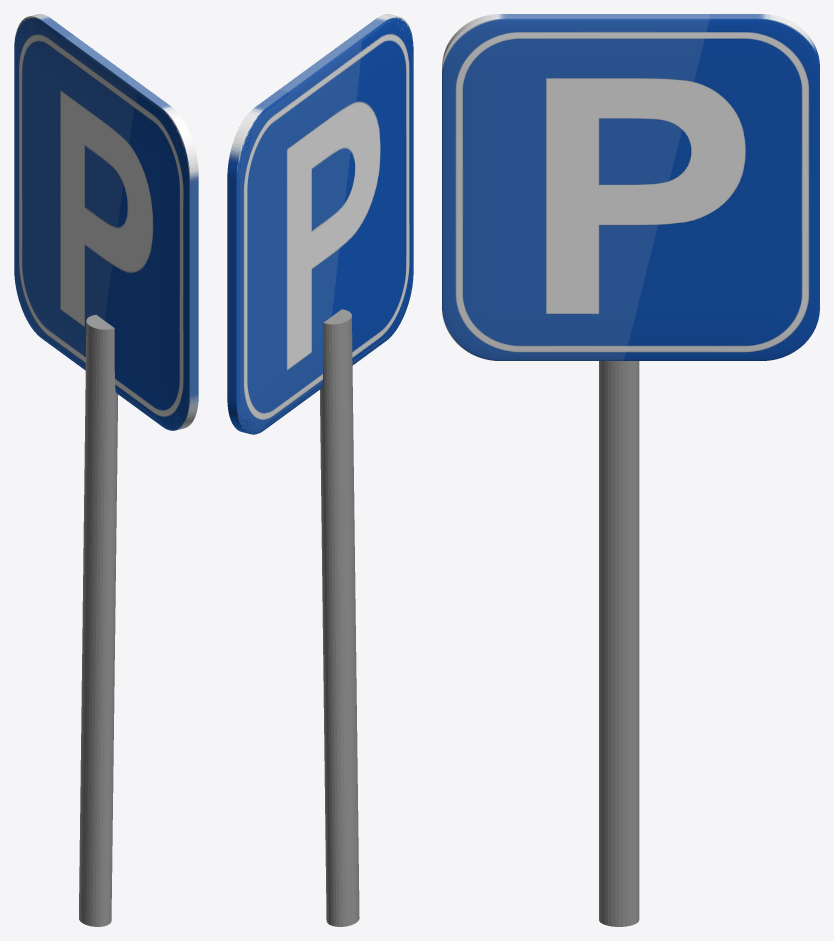
File: Parking_02.glb
3 views of the same model, side by side, from view 1: azimuth 30°, elevation 25°; view 2: azimuth 150°, elevation 25°; view 3: azimuth 270°, elevation 25° (orthographic). The views are drawn at different scales.
Visible parts, largest first — view 1: Cube, Cylinder; view 2: Cube, Cylinder; view 3: Cube, Cylinder.
Part boxes in pixels (<box>): Cube: <box>14,14,198,430</box>; Cylinder: <box>79,314,118,926</box>; Cube: <box>227,14,413,434</box>; Cylinder: <box>320,309,359,926</box>; Cube: <box>442,14,819,360</box>; Cylinder: <box>599,361,639,926</box>.
Bounding box in the file's own units: 0.1288 × 2.84 × 1.07.
2 materials, 1 textured.
